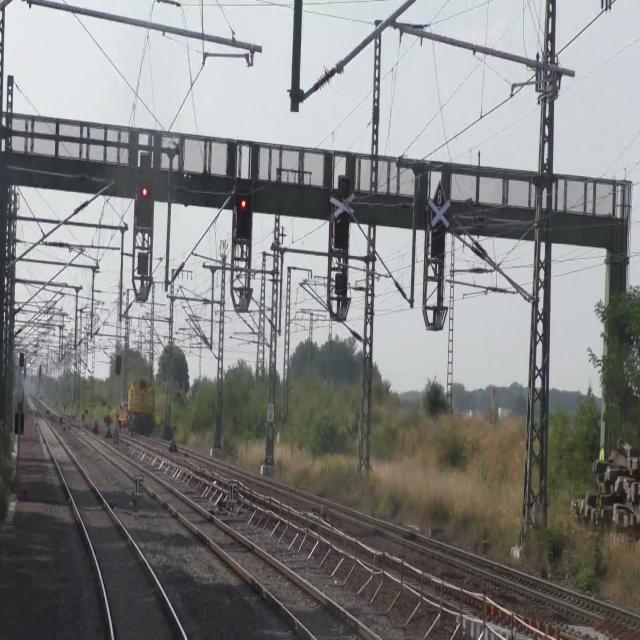rail-track: (104, 447, 372, 639), (35, 410, 182, 639), (485, 565, 640, 626)
